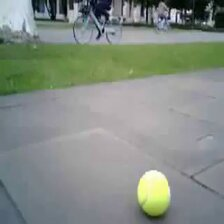tennis: (137, 169, 171, 217)
